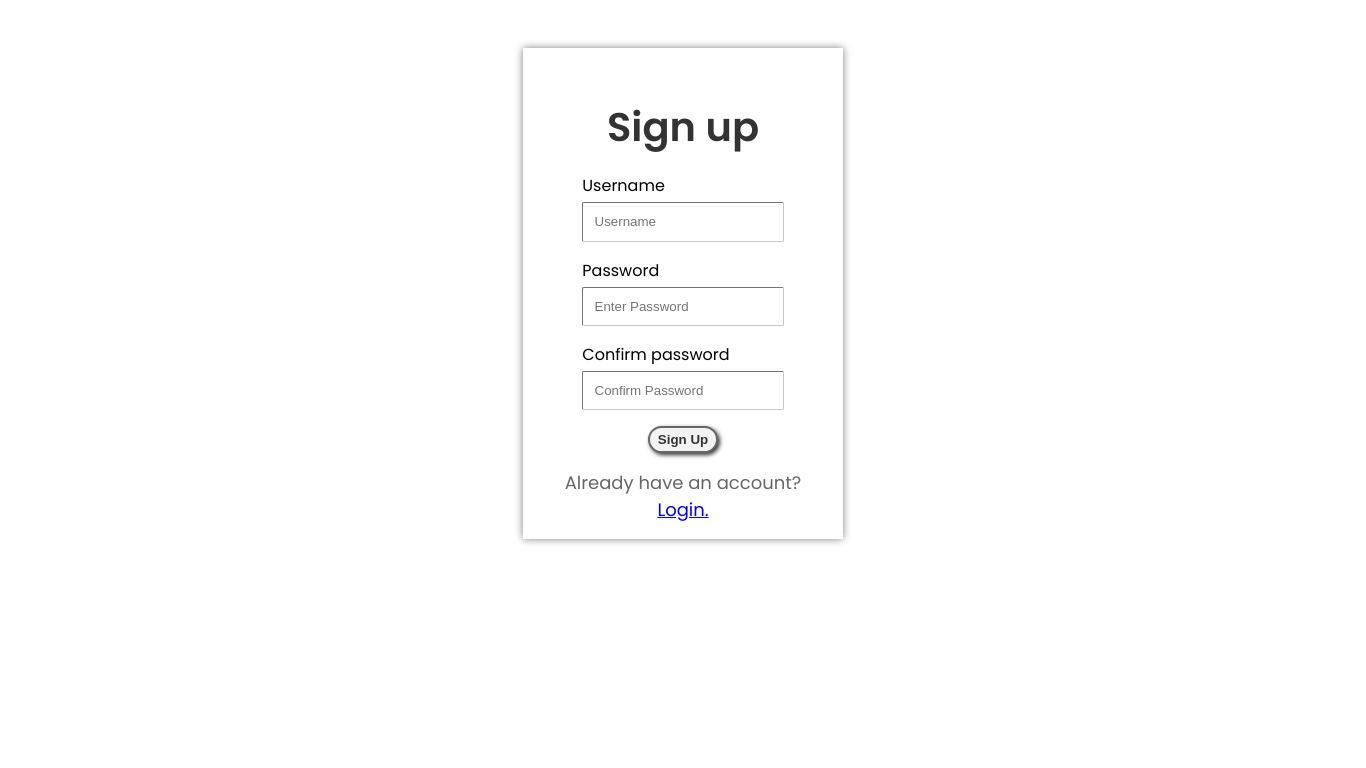
Test case: <SignUpForm /> › shows an error when passwords do not match
The width and height of the screenshot is (1366, 768).
Type "testuser" into the field labelled "Username" at (683, 222), box [582,202,784,242]
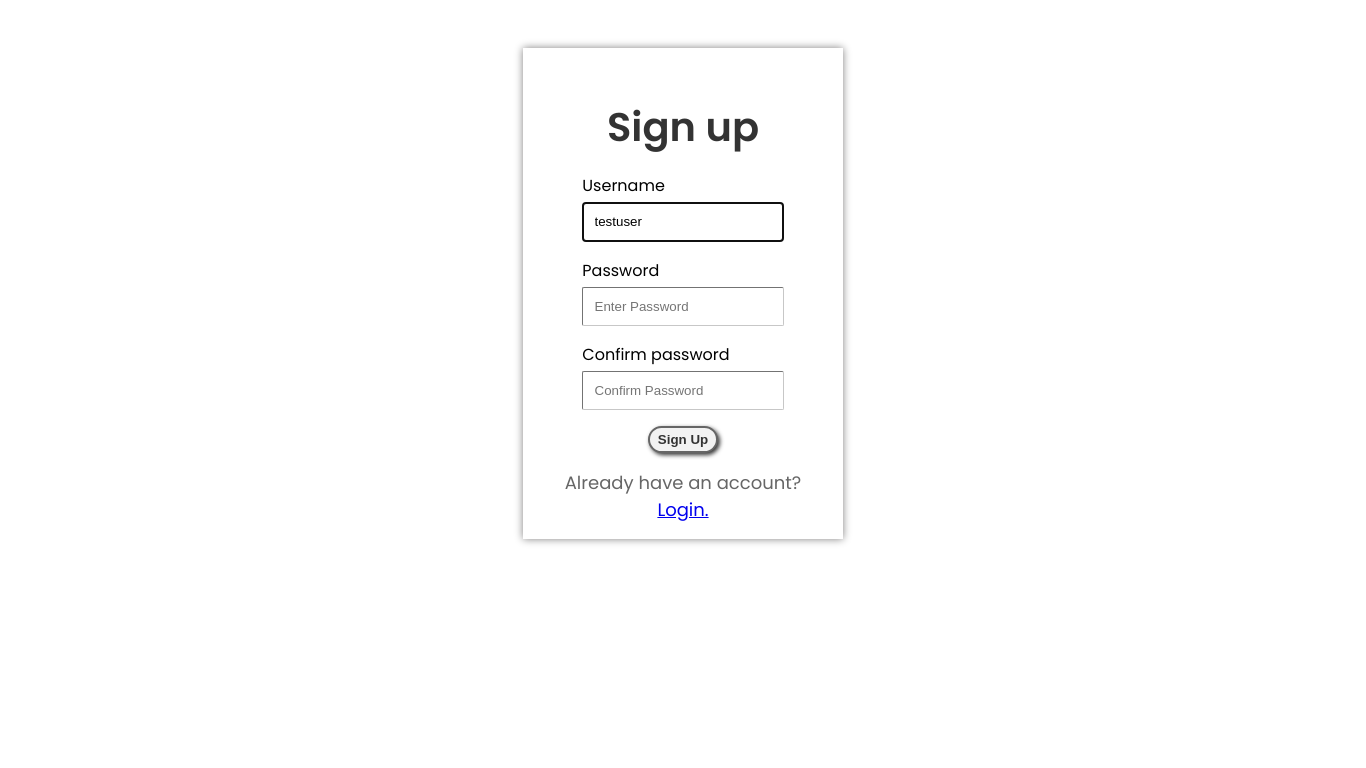
Type "password123" into the password field with placeholder "Enter Password" at (683, 306), box [582,287,784,326]
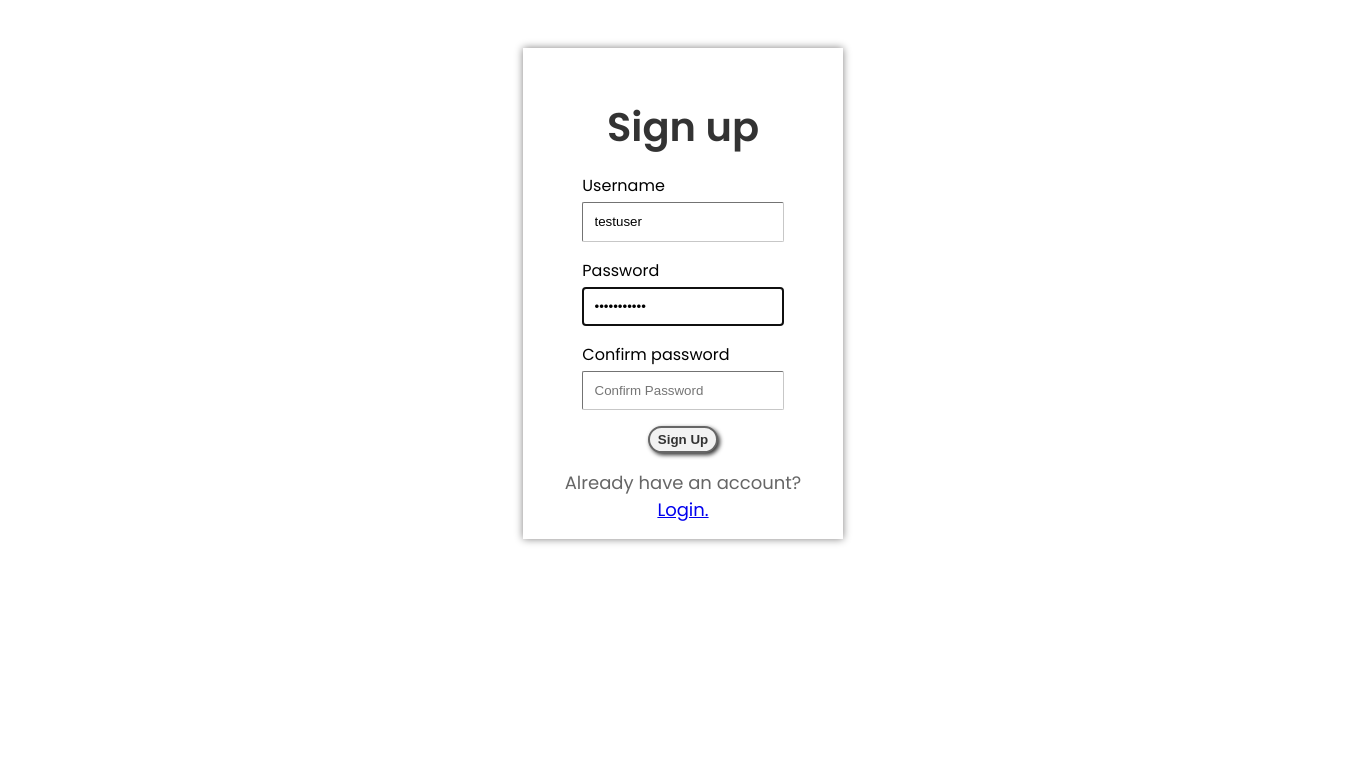
Type "password456" into the password field with placeholder "Confirm password" at (683, 391), box [582,371,784,410]
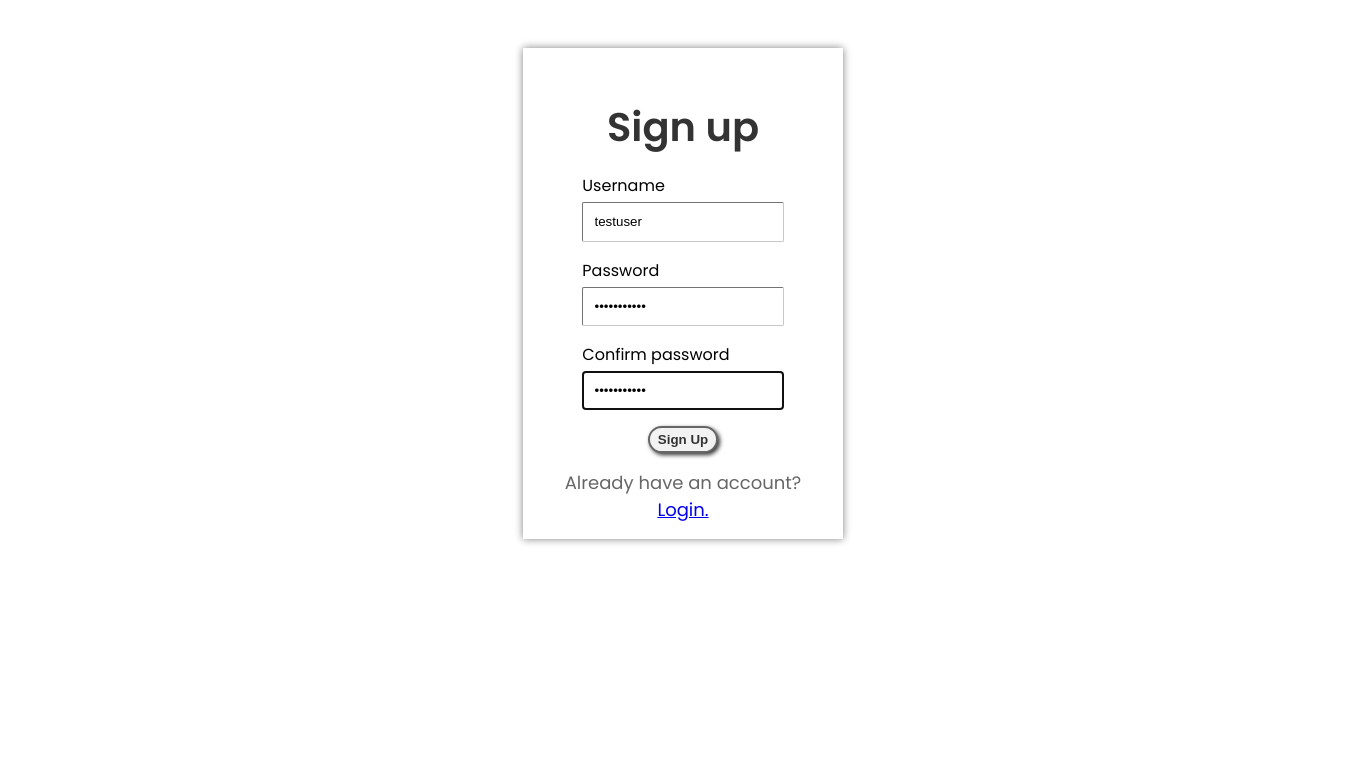
Click the button "Sign Up" at (683, 440), box [648,426,718,453]
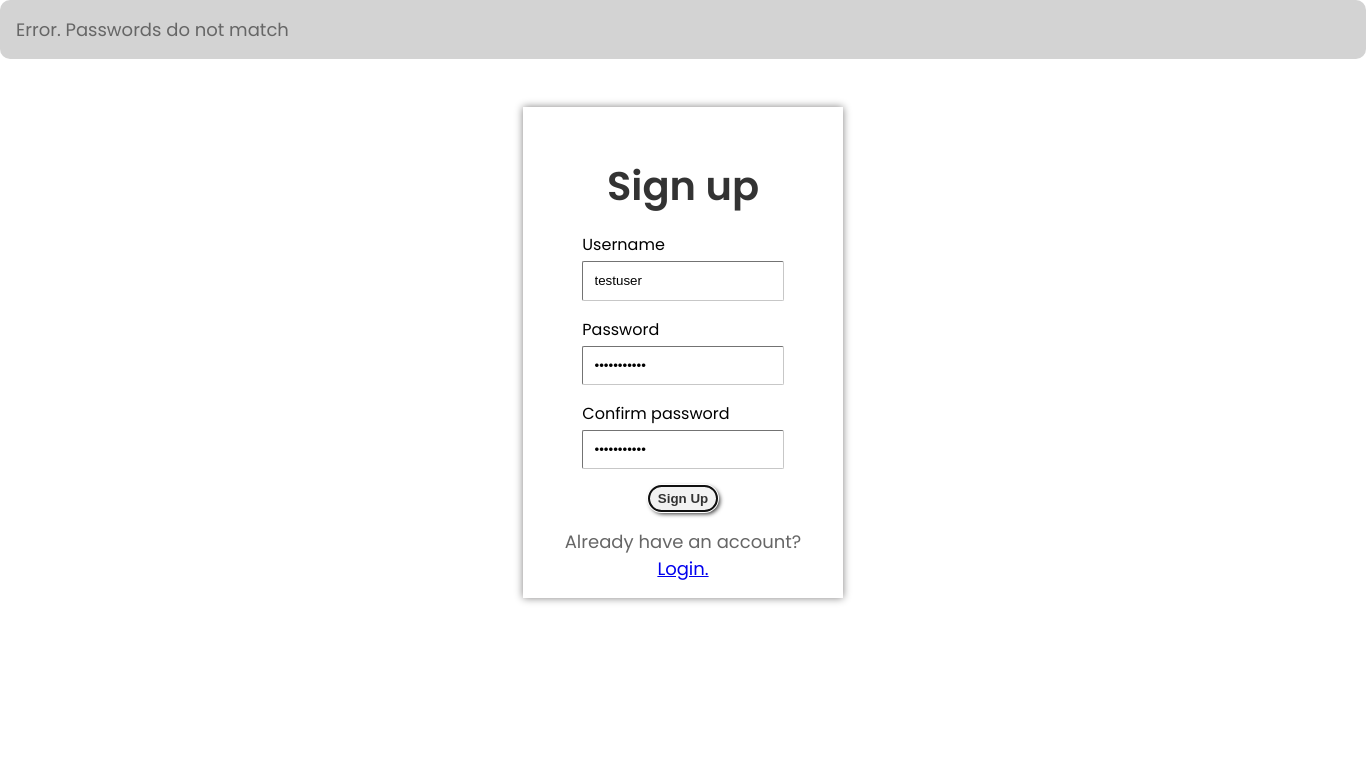
Result: the message shows "Passwords do not match" at [16,17,289,42]
